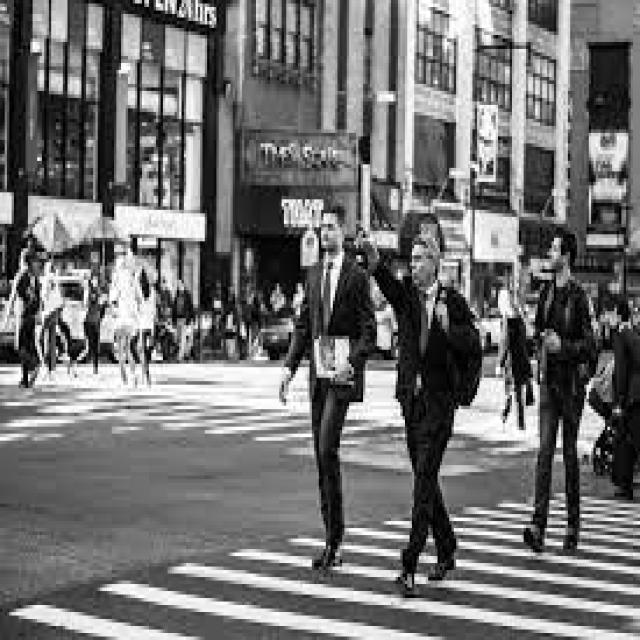Pedestrians: (279, 203, 377, 573), (389, 228, 470, 588), (530, 231, 586, 556)
